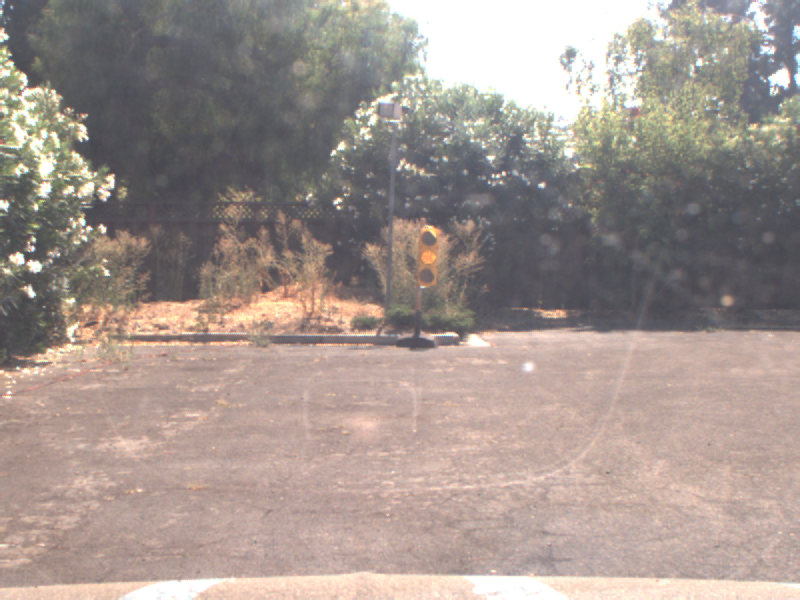yellow: (415, 224, 439, 291)
